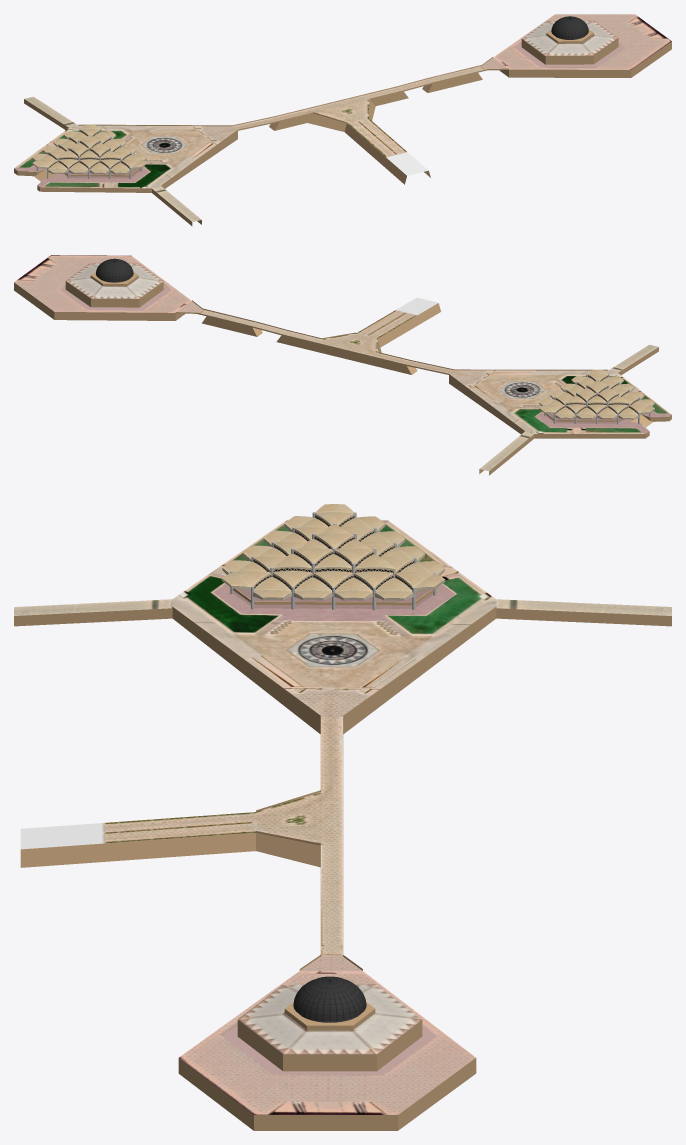
Rendered from oerk-rt.gltf.
The picture shows the model from 3 angles, top to bottom: view 1: azimuth 30°, elevation 25°; view 2: azimuth 150°, elevation 25°; view 3: azimuth 270°, elevation 25°; orthographic projection. The views are drawn at different scales.
Parts seen in each view (by area): view 1: Plane, Cube.008, Sphere, z_roof.top.m.027, z_roof.top.new.006; view 2: Plane, Cube.008, Sphere, z_roof.top.m.027, z_roof.top.new.001; view 3: Plane, Cube.008, Sphere, z_roof.top.m.027, z_roof.top.new.002, z_roof.top.new.001, z_roof.top.new.006.
Boxes of the visible parts, x1,y1,x2,y2 form: Plane: (14, 14, 671, 225); Cube.008: (521, 20, 618, 64); Sphere: (551, 16, 588, 39); z_roof.top.m.027: (69, 139, 109, 159); z_roof.top.new.006: (48, 169, 129, 174); Plane: (14, 255, 671, 475); Cube.008: (65, 263, 163, 307); Sphere: (96, 258, 133, 282); z_roof.top.m.027: (576, 384, 617, 405); z_roof.top.new.001: (555, 414, 638, 419); Plane: (14, 520, 671, 1130); Cube.008: (237, 984, 422, 1071); Sphere: (293, 976, 366, 1022); z_roof.top.m.027: (293, 533, 374, 572); z_roof.top.new.002: (253, 590, 413, 600); z_roof.top.new.001: (357, 516, 444, 575); z_roof.top.new.006: (222, 516, 313, 574).
Bounding box in the file's own units: 768 × 57.16 × 359.
